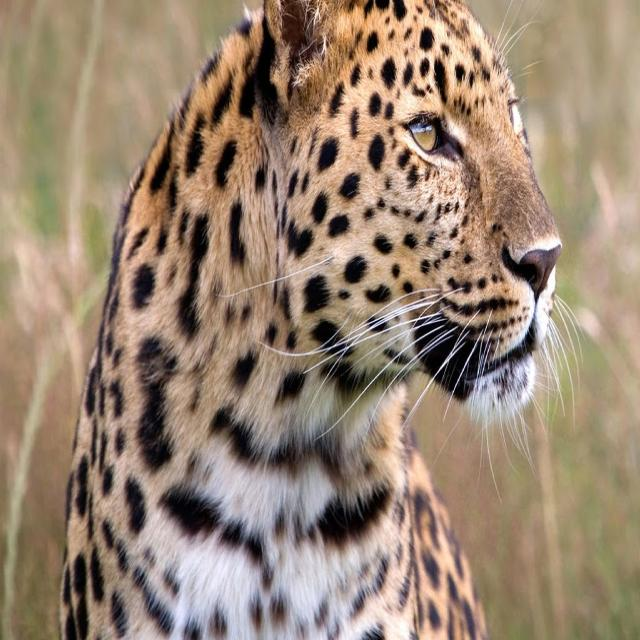Leopard: (58, 5, 560, 637)
